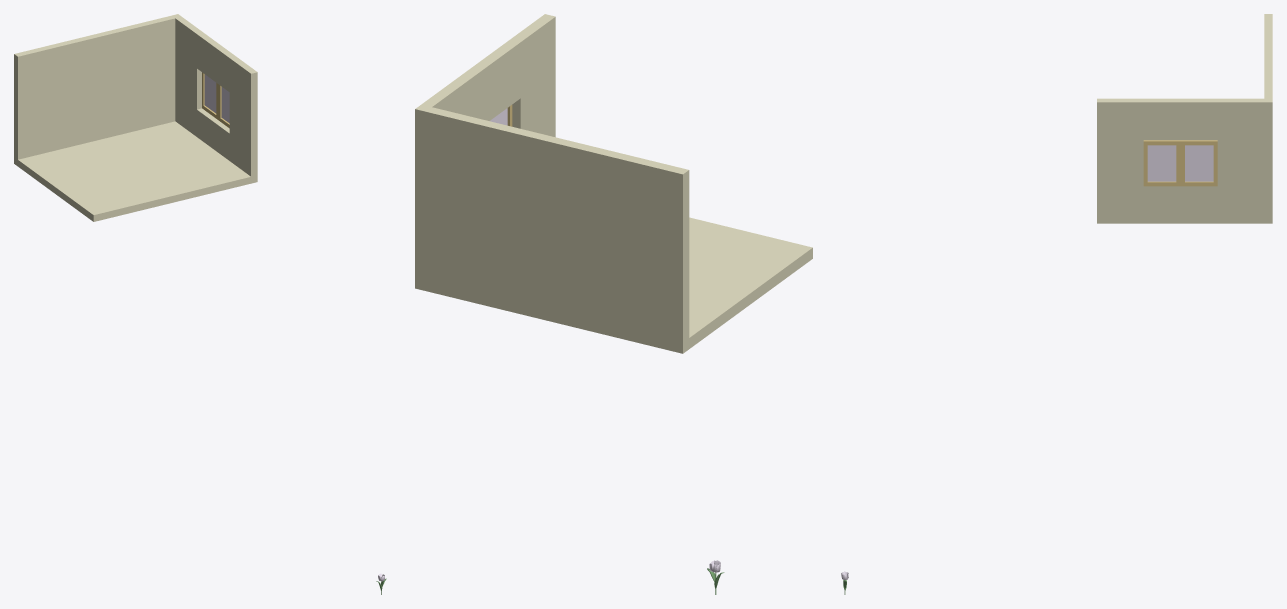
3 views of the same model, side by side, from view 1: azimuth 30°, elevation 25°; view 2: azimuth 150°, elevation 25°; view 3: azimuth 270°, elevation 25° (orthographic). The views are drawn at different scales.
Visible parts, largest first — view 1: Cube.009, 卧室窗.001; view 2: Cube.009; view 3: Cube.009, 卧室窗.001.
Part boxes in pixels (x1,y1,x2,y2): Cube.009: (14,14,257,221); 卧室窗.001: (202,72,229,128); Cube.009: (415,14,812,353); Cube.009: (1097,14,1272,223); 卧室窗.001: (1143,140,1217,186).
Size of the model in its own units: 5.45 by 12.86 by 10.32.
